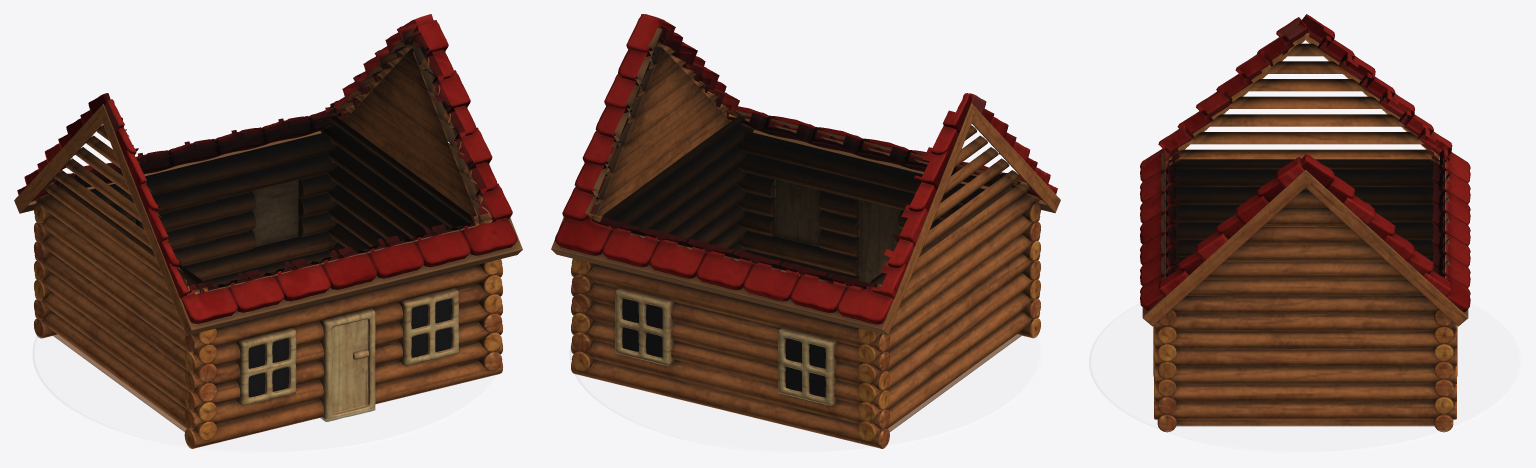
File: house-no-roof.glb
3 renders of one model, left to right at view 1: azimuth 30°, elevation 25°; view 2: azimuth 150°, elevation 25°; view 3: azimuth 270°, elevation 25°, orthographic. The views are drawn at different scales.
Visible parts, largest first — view 1: 20958_Log_Cabin_v1_NEW; view 2: 20958_Log_Cabin_v1_NEW; view 3: 20958_Log_Cabin_v1_NEW.
Boxes of the visible parts, bbox=[...] form: 20958_Log_Cabin_v1_NEW: bbox=[14, 14, 522, 453]; 20958_Log_Cabin_v1_NEW: bbox=[551, 14, 1060, 453]; 20958_Log_Cabin_v1_NEW: bbox=[1089, 14, 1521, 453].
Bounding box in the file's own units: 9.16 × 6.49 × 9.16.
Materials: 2 (1 with a texture image).
